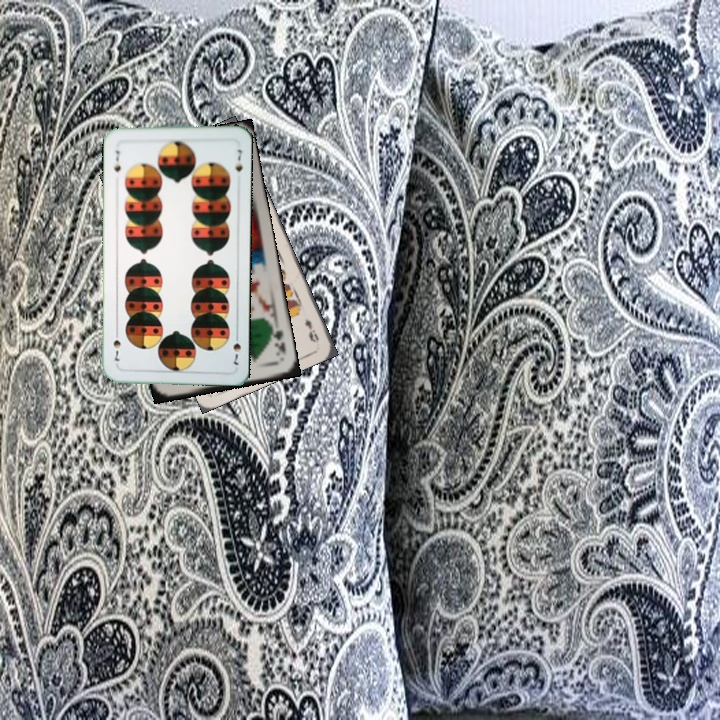E9: (301, 315, 322, 346)
GK: (267, 322, 289, 359)
S7: (229, 329, 243, 367), (110, 147, 123, 174)
